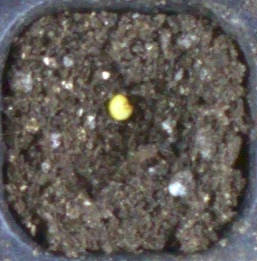chilli seed: (108, 94, 134, 120)
